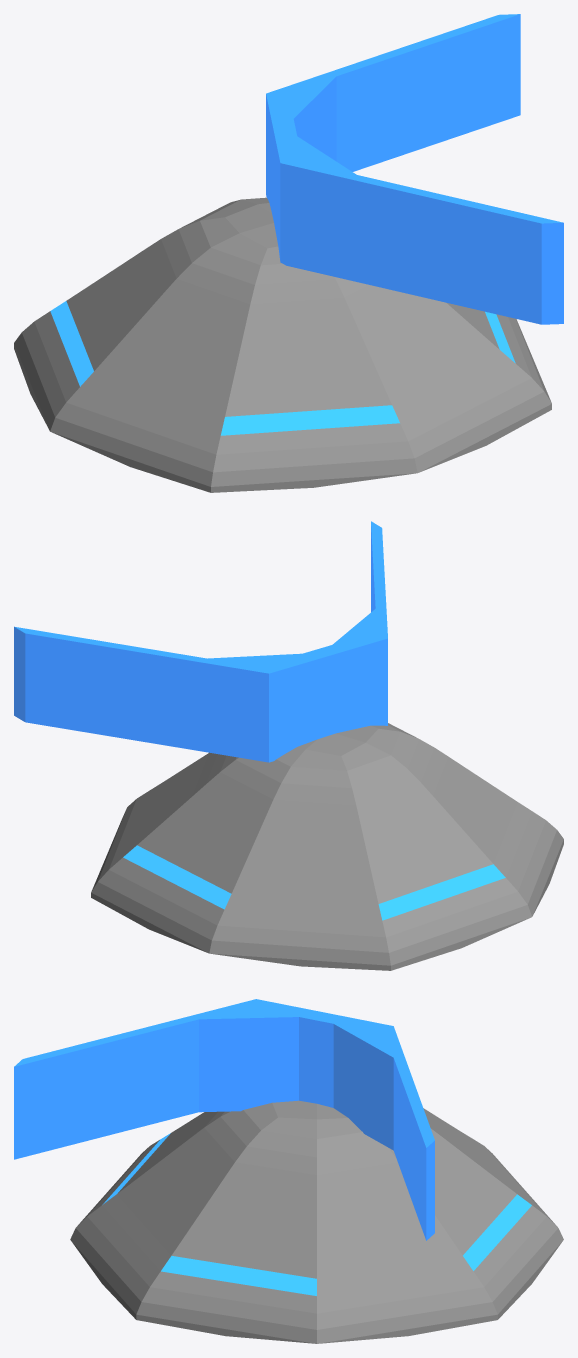
Rendered from UFO.glb.
3 views of the same model, one above another, from view 1: azimuth 30°, elevation 25°; view 2: azimuth 150°, elevation 25°; view 3: azimuth 270°, elevation 25° (orthographic). The views are drawn at different scales.
Visible parts, largest first — view 1: Cube, Cube.001; view 2: Cube, Cube.001; view 3: Cube, Cube.001.
Boxes of the visible parts, x1=… form: Cube: x1=14, y1=197, x2=551, y2=492; Cube.001: x1=266, y1=14, x2=563, y2=324; Cube: x1=91, y1=723, x2=563, y2=970; Cube.001: x1=14, y1=521, x2=387, y2=762; Cube: x1=70, y1=1100, x2=563, y2=1343; Cube.001: x1=14, y1=999, x2=434, y2=1240.
Size of the model in its own units: 6.56 by 3 by 6.42.
